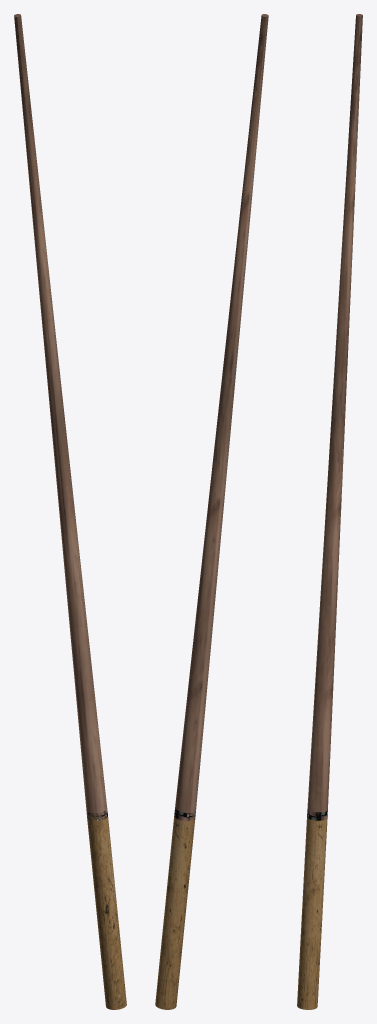
Rendered from stick poll 1.fbx.
The picture shows the model from 3 angles, left to right: view 1: azimuth 30°, elevation 25°; view 2: azimuth 210°, elevation 25°; view 3: azimuth 270°, elevation 25°; orthographic projection. The views are drawn at different scales.
Parts seen in each view (by area): view 1: pCylinder143; view 2: pCylinder143; view 3: pCylinder143.
Boxes of the visible parts, <box> form: pCylinder143: <box>14,14,126,1009</box>; pCylinder143: <box>155,14,268,1009</box>; pCylinder143: <box>297,14,362,1009</box>.
Bounding box in the file's own units: 0.6653 × 7.47 × 0.4657.
